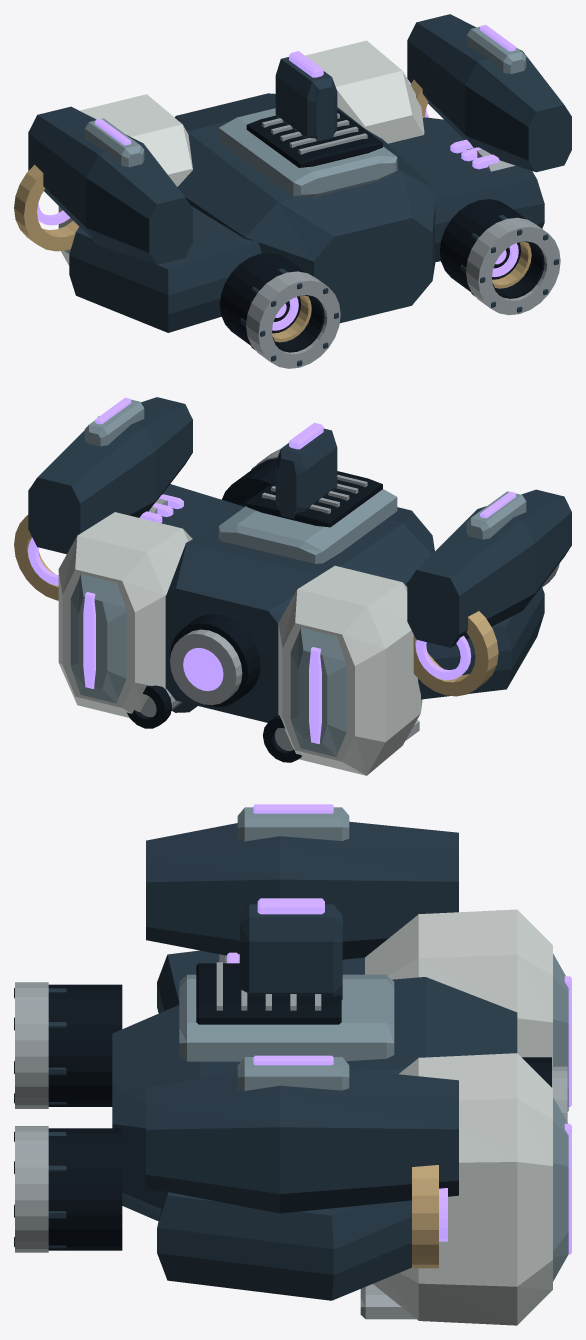
Rendered from warden_debris.glb.
The picture shows the model from 3 angles, top to bottom: view 1: azimuth 30°, elevation 25°; view 2: azimuth 150°, elevation 25°; view 3: azimuth 270°, elevation 25°; orthographic projection. The views are drawn at different scales.
Visible parts, largest first — view 1: port_armor, port_engine, starboard_armor, starboard_engine, core_engine, core_armor; view 2: port_armor, starboard_armor, core_armor, starboard_engine, port_engine, core_engine; view 3: starboard_armor, port_armor, core_armor, starboard_engine, port_engine, core_engine.
Boxes of the visible parts, left/top/right/bottom form: port_armor: left=14, top=94, right=278, bottom=314; port_engine: left=70, top=144, right=340, bottom=368; starboard_armor: left=305, top=14, right=536, bottom=198; starboard_engine: left=403, top=52, right=571, bottom=315; core_engine: left=279, top=133, right=432, bottom=323; core_armor: left=176, top=51, right=402, bottom=201; port_armor: left=268, top=491, right=571, bottom=775; starboard_armor: left=14, top=397, right=244, bottom=728; core_armor: left=149, top=422, right=402, bottom=758; starboard_engine: left=141, top=397, right=280, bottom=507; port_engine: left=403, top=489, right=571, bottom=686; core_engine: left=337, top=474, right=431, bottom=534; starboard_armor: left=146, top=1053, right=571, bottom=1325; port_armor: left=146, top=804, right=571, bottom=1111; core_armor: left=187, top=898, right=567, bottom=1121; starboard_engine: left=14, top=1077, right=332, bottom=1300; port_engine: left=14, top=840, right=278, bottom=1108; core_engine: left=112, top=962, right=222, bottom=1221.
Bounding box in the file's own units: 3.28 × 1.67 × 2.5.
